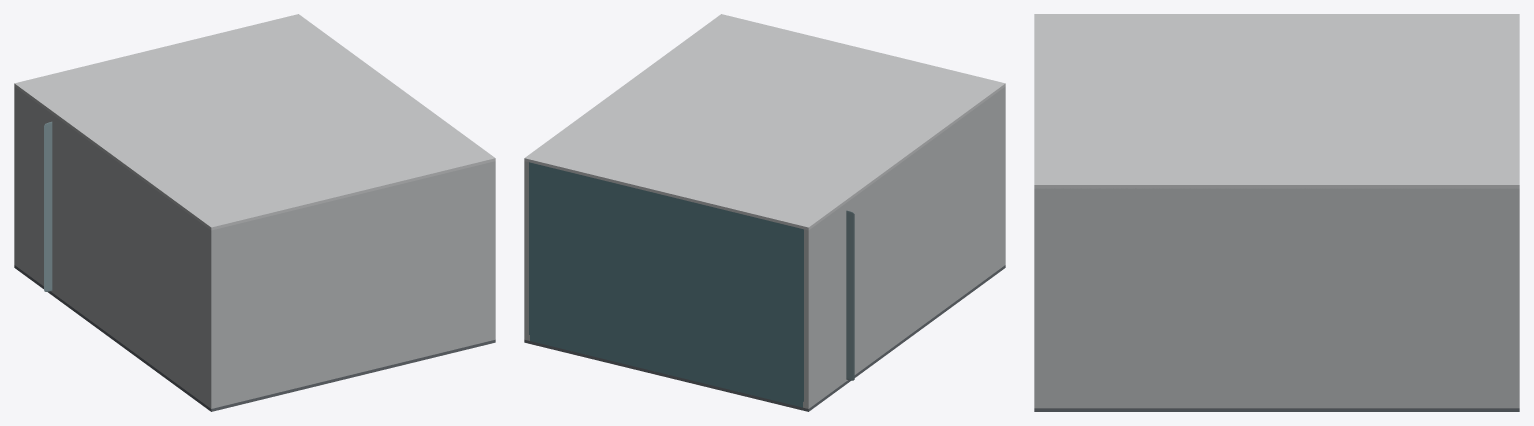
Rendered from hero-bay.glb.
3 views of the same model, side by side, from view 1: azimuth 30°, elevation 25°; view 2: azimuth 150°, elevation 25°; view 3: azimuth 270°, elevation 25° (orthographic). The views are drawn at different scales.
Visible parts, largest first — view 1: Wall_Foot, Ceiling, Floor, Curtain; view 2: Ceiling, Wall_Head, Wall_Foot, Floor, Curtain; view 3: Wall_Foot, Ceiling, Floor.
Boxes of the visible parts, bbox=[...] form: Wall_Foot: bbox=[14, 86, 495, 408]; Ceiling: bbox=[14, 14, 495, 230]; Floor: bbox=[14, 265, 495, 411]; Curtain: bbox=[44, 121, 52, 291]; Ceiling: bbox=[524, 14, 1005, 230]; Wall_Head: bbox=[529, 162, 803, 407]; Wall_Foot: bbox=[524, 86, 1005, 408]; Floor: bbox=[524, 265, 1005, 411]; Curtain: bbox=[846, 210, 854, 380]; Wall_Foot: bbox=[1034, 188, 1519, 408]; Ceiling: bbox=[1034, 14, 1519, 188]; Floor: bbox=[1034, 408, 1519, 411].
Bounding box in the file's own units: 5.14 × 3.1 × 6.
